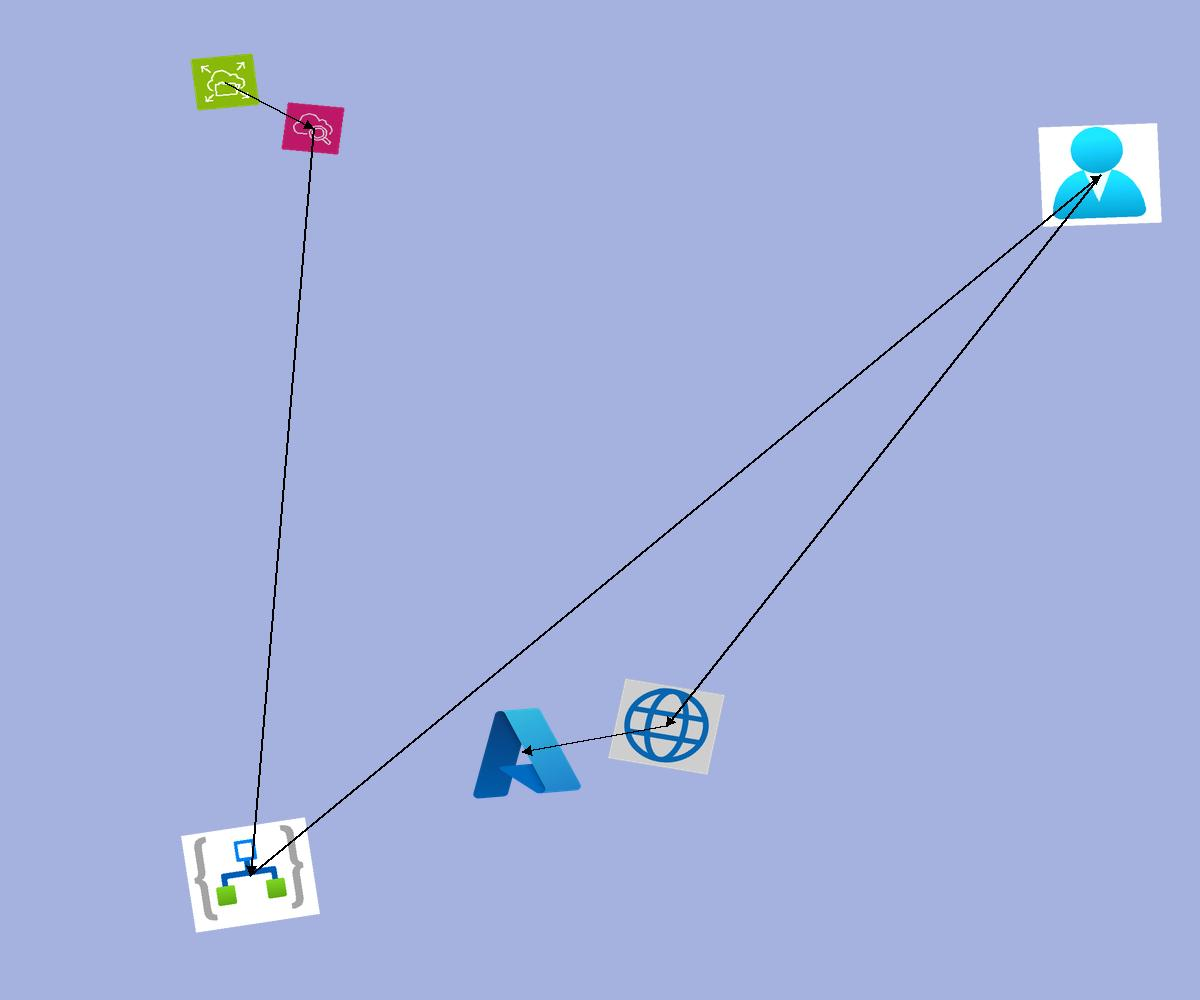AWS-CloudWatch: (281, 102, 345, 155)
AWS-EFS: (190, 53, 260, 111)
Azure_http: (608, 678, 725, 775)
Azure_integration-204-Logic-Apps: (181, 817, 320, 933)
Azure_services: (458, 698, 587, 806)
Azure_users: (1038, 123, 1162, 227)
